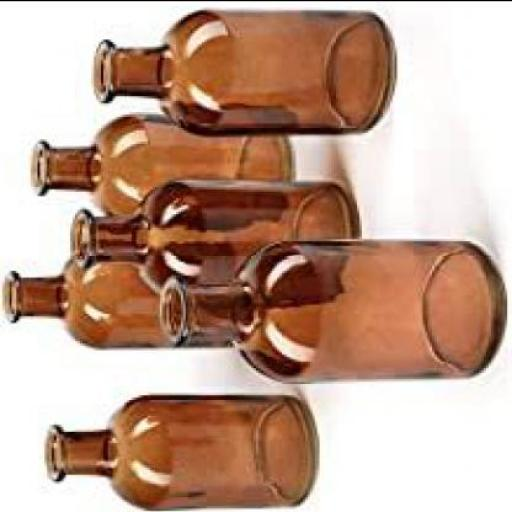glass: (158, 240, 504, 385), (92, 12, 392, 136), (68, 184, 354, 294), (44, 396, 315, 510), (28, 116, 294, 222), (3, 260, 239, 352)
